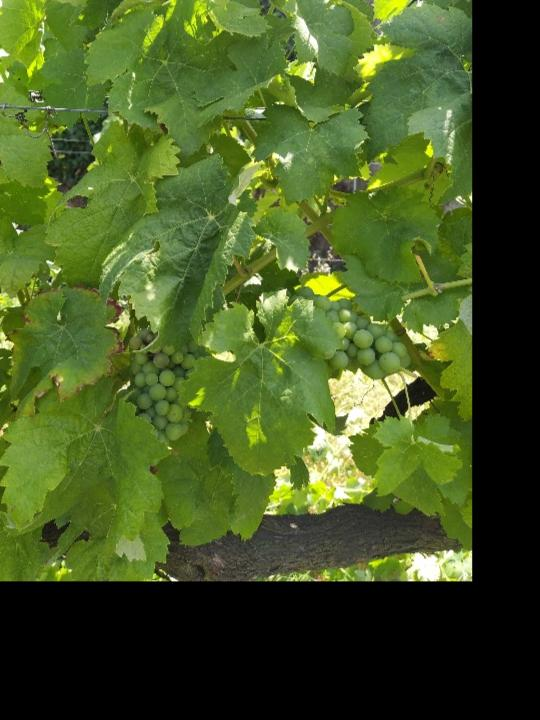grape: (284, 281, 412, 382), (125, 327, 204, 449)
